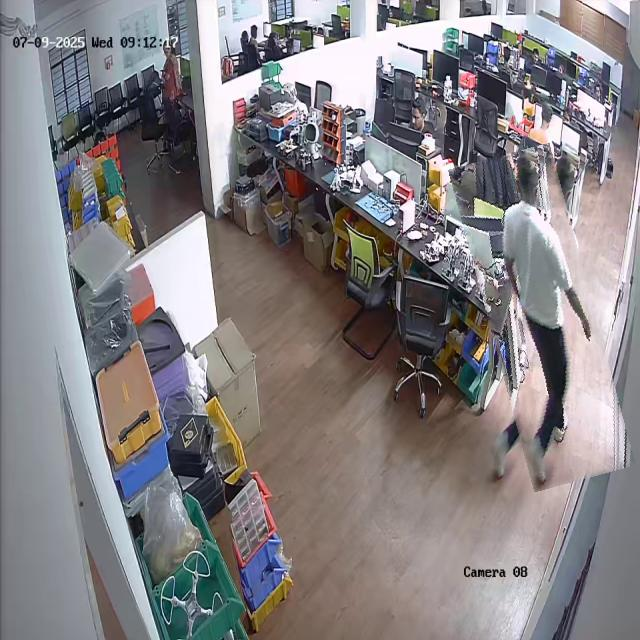person: (468, 147, 614, 489)
